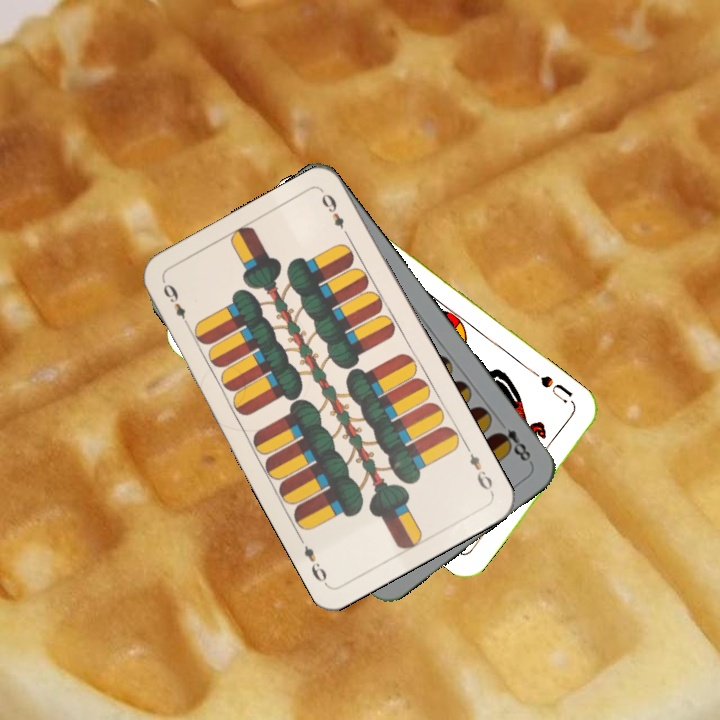E8: (492, 424, 535, 466)
E9: (159, 277, 194, 332), (461, 442, 496, 496)
SU: (529, 367, 576, 407)
